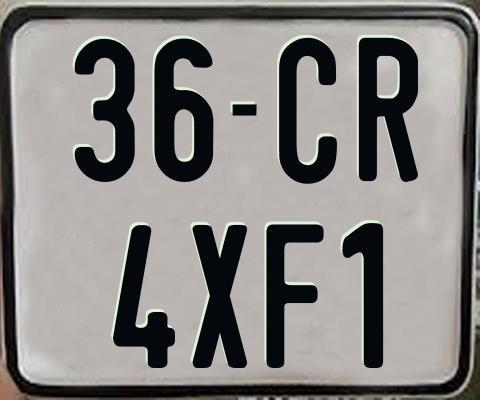1: (339, 220, 384, 366)
3: (74, 38, 136, 187)
4: (110, 224, 173, 373)
6: (151, 36, 215, 180)
C: (277, 36, 335, 182)
F: (266, 224, 328, 368)
R: (359, 38, 423, 186)
X: (192, 225, 252, 374)
